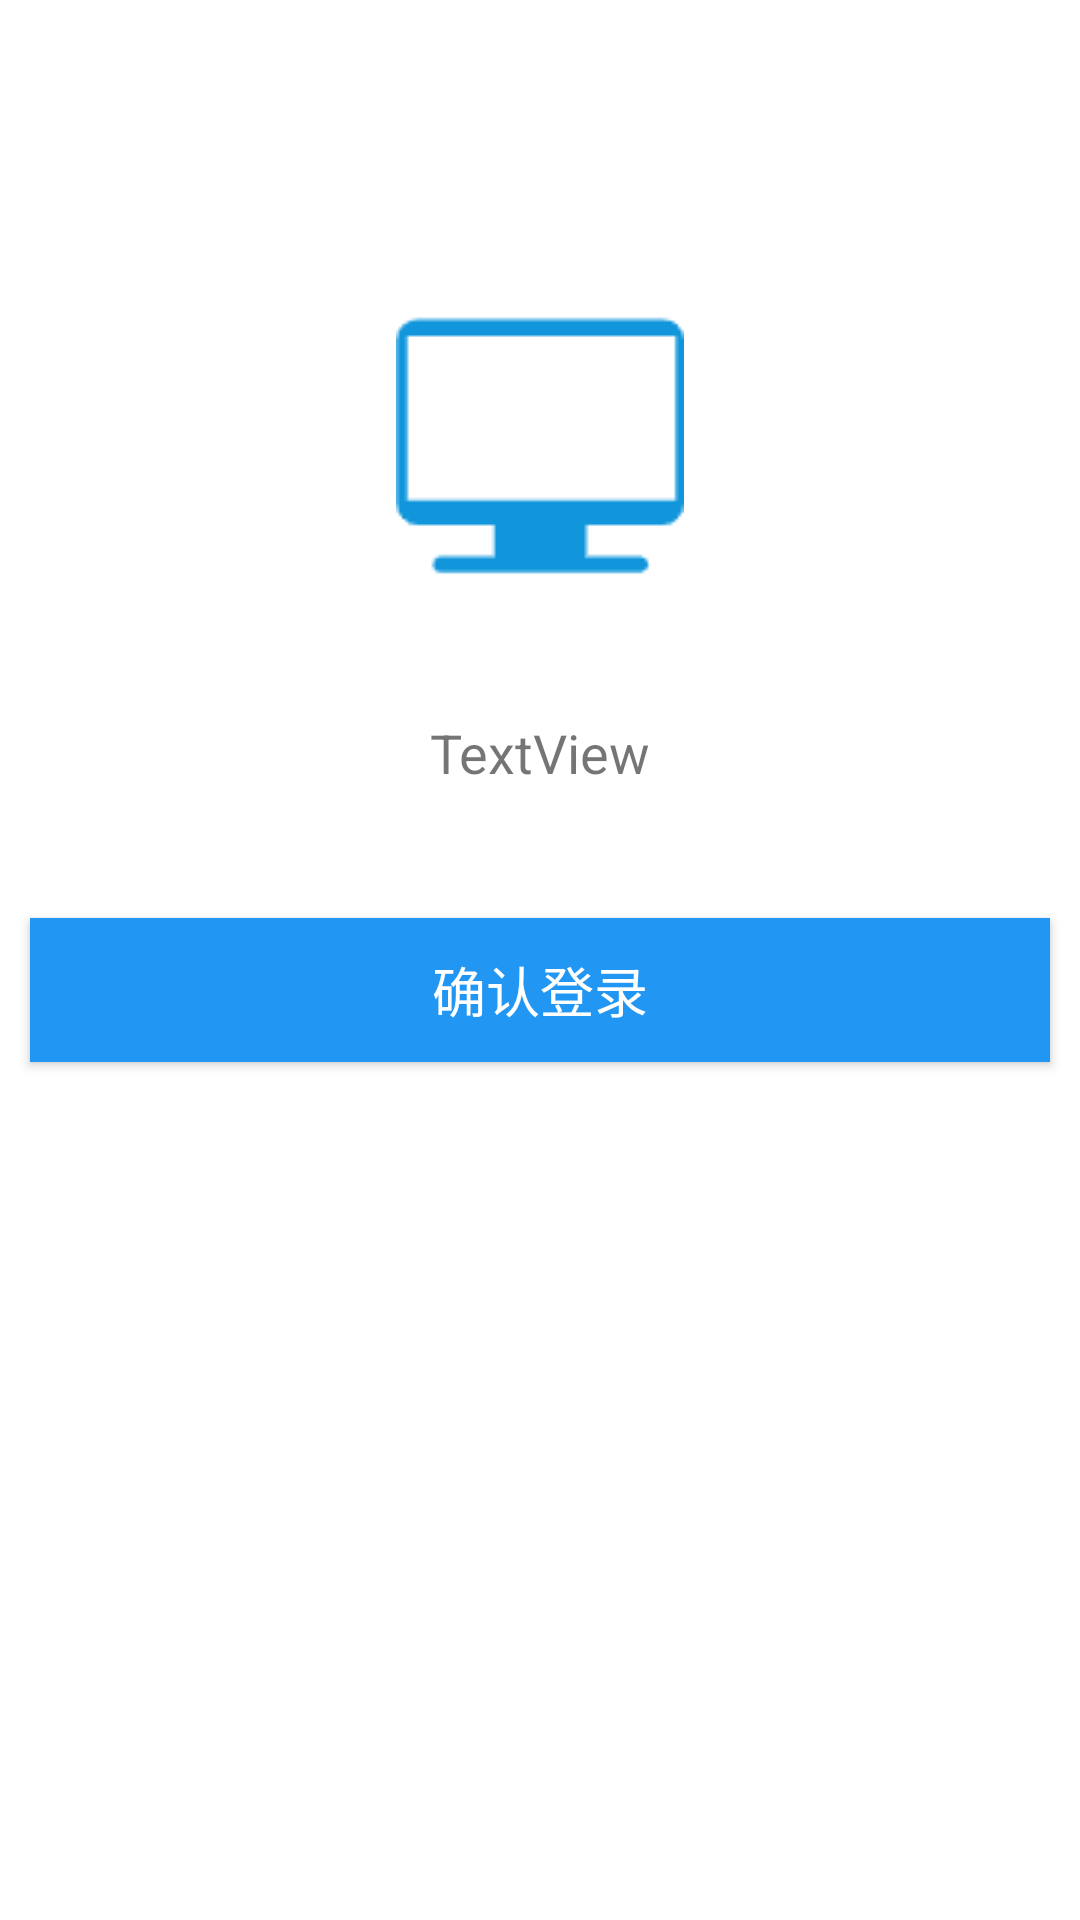

Where to tap for icons on this 1080x1920 app screen, as point (x, y):
computer: point (540, 445)
